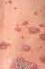plaque psoriasis: (9, 55, 39, 69), (27, 22, 38, 37), (21, 40, 30, 55), (0, 40, 9, 52), (37, 31, 45, 44), (13, 23, 22, 34), (0, 0, 14, 6), (39, 18, 45, 32), (22, 18, 28, 29), (38, 56, 45, 64)
